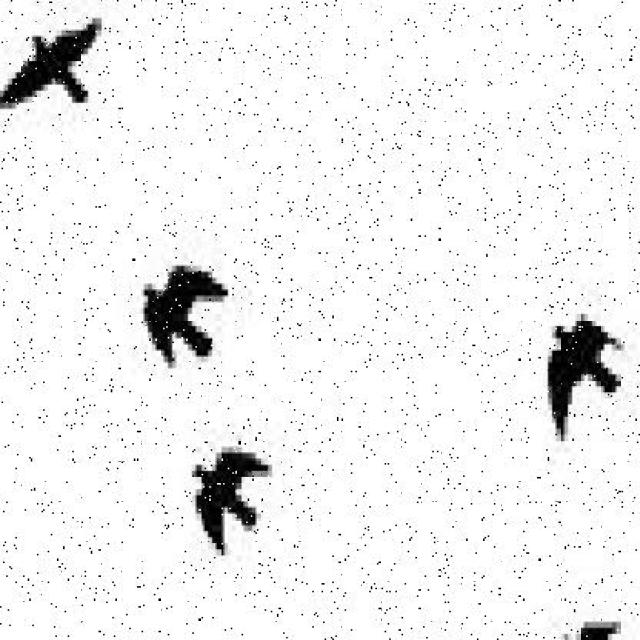bird: (104, 256, 254, 380), (521, 309, 640, 453), (0, 12, 106, 142), (177, 430, 281, 555), (544, 609, 631, 640)
